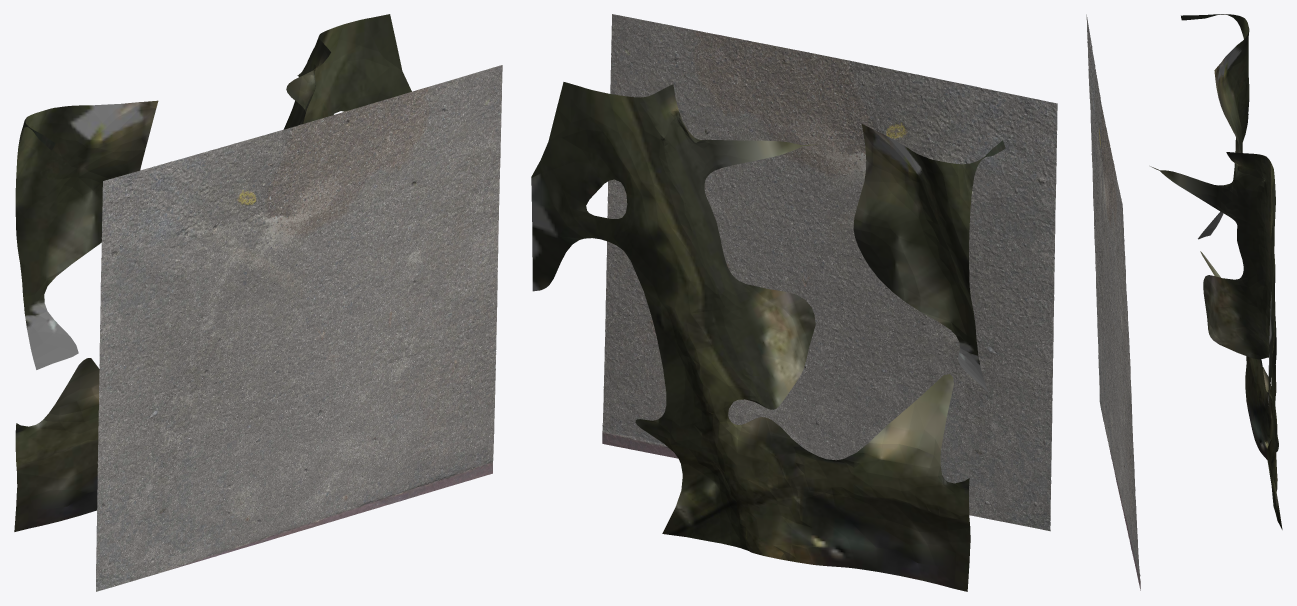
Rendered from Tile_+010_+017.obj.
3 renders of one model, left to right at view 1: azimuth 30°, elevation 25°; view 2: azimuth 150°, elevation 25°; view 3: azimuth 270°, elevation 25°, orthographic. The views are drawn at different scales.
Bounding box in the file's own units: 3.03 × 2.87 × 1.32.
Materials: 1 (1 with a texture image).
